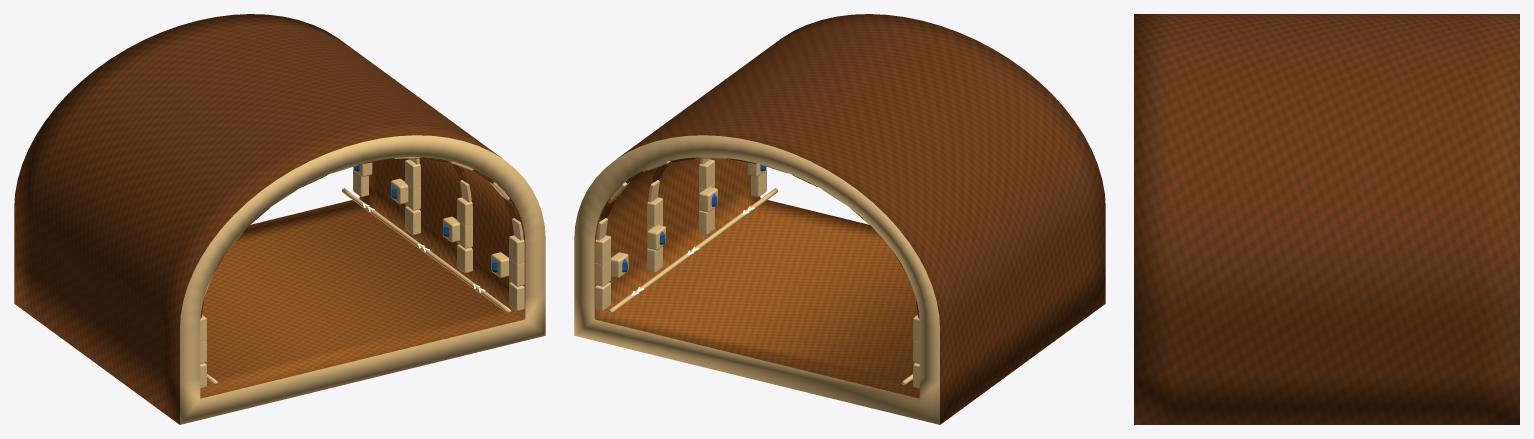
Rendered from straight_12m.glb.
3 views of the same model, side by side, from view 1: azimuth 30°, elevation 25°; view 2: azimuth 150°, elevation 25°; view 3: azimuth 270°, elevation 25° (orthographic). The views are drawn at different scales.
Visible parts, largest first — view 1: TunnelGeometry; view 2: TunnelGeometry; view 3: TunnelGeometry.
Part boxes in pixels (x1,y1,x2,y2): TunnelGeometry: [14, 14, 545, 424]; TunnelGeometry: [574, 14, 1105, 424]; TunnelGeometry: [1134, 14, 1519, 424].
Size of the model in its own units: 15.3 by 9.52 by 12.
5 materials, 2 textured.
